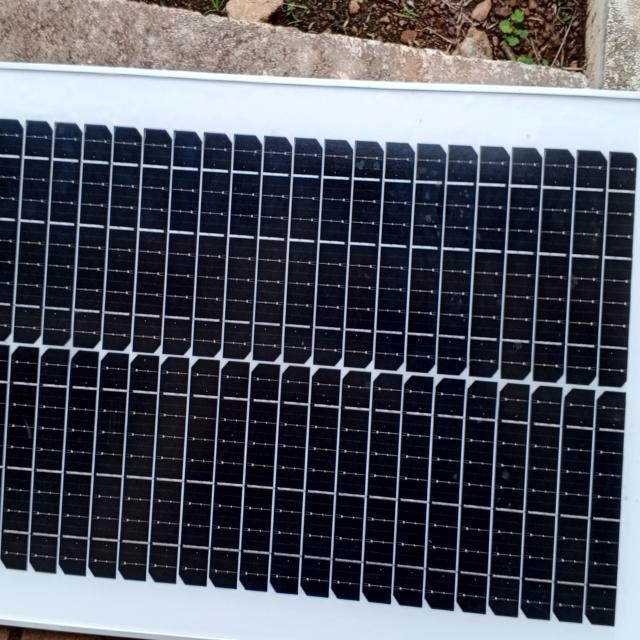Clean: (2, 77, 640, 613)
